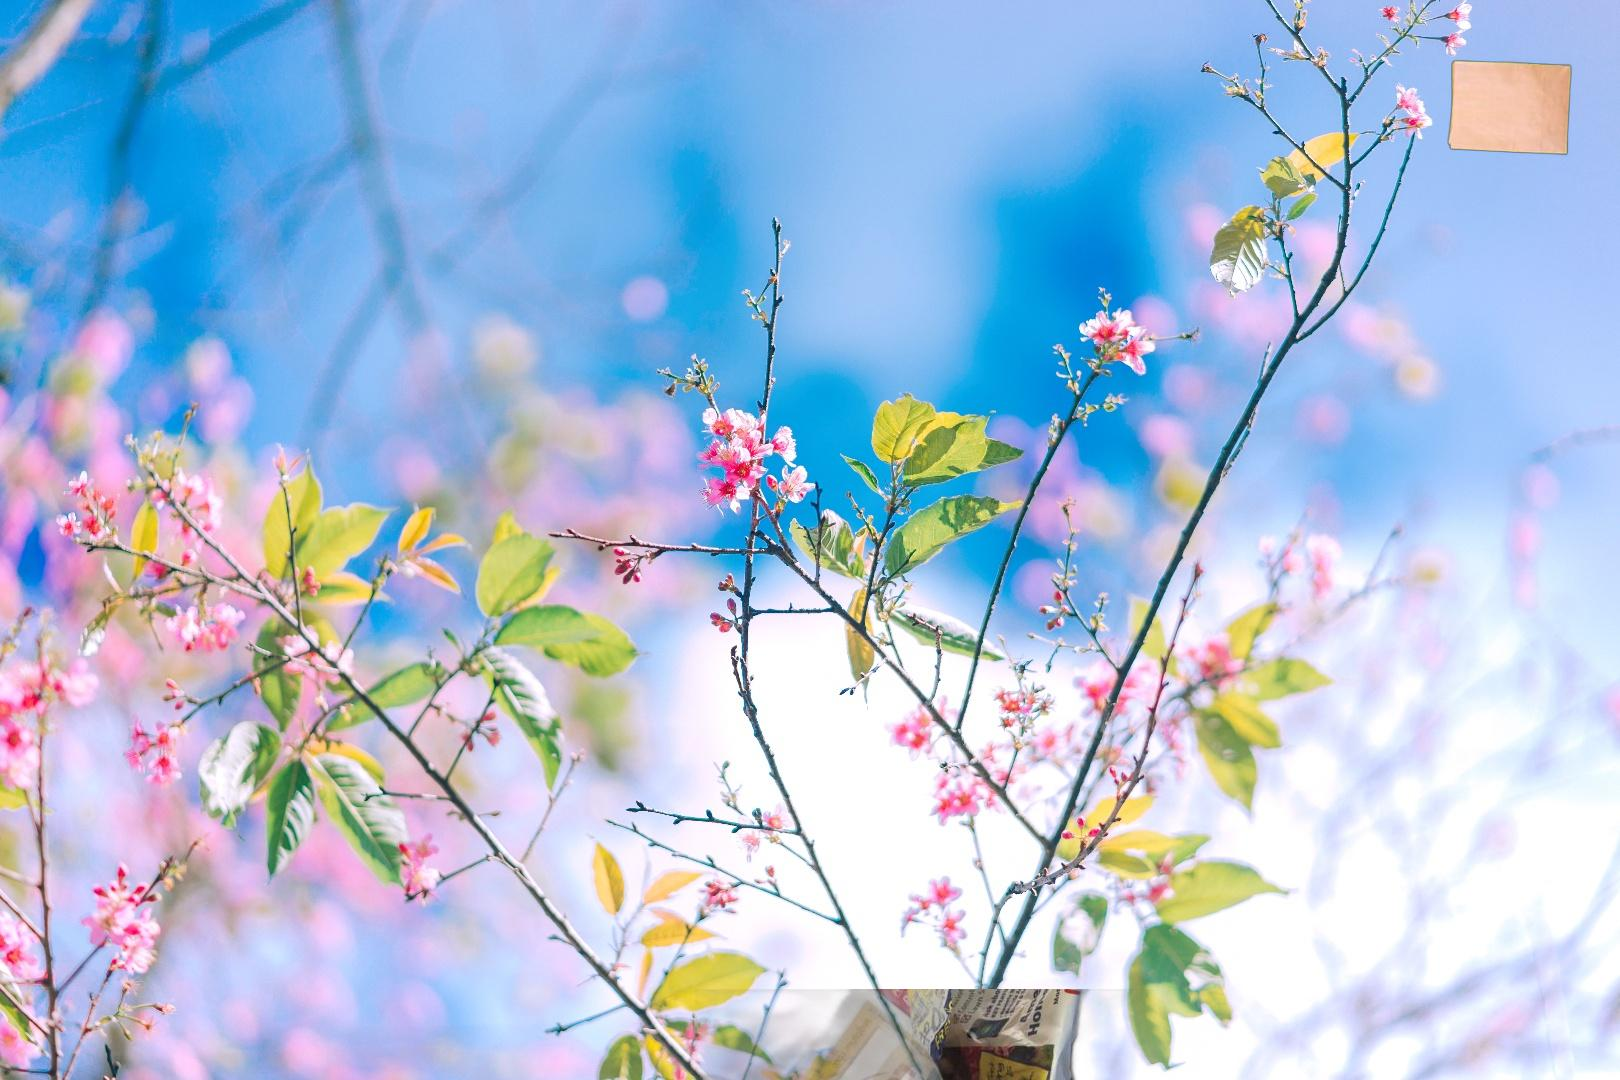paper: (695, 990, 1161, 1080)
paper-bag: (1446, 59, 1575, 158)
